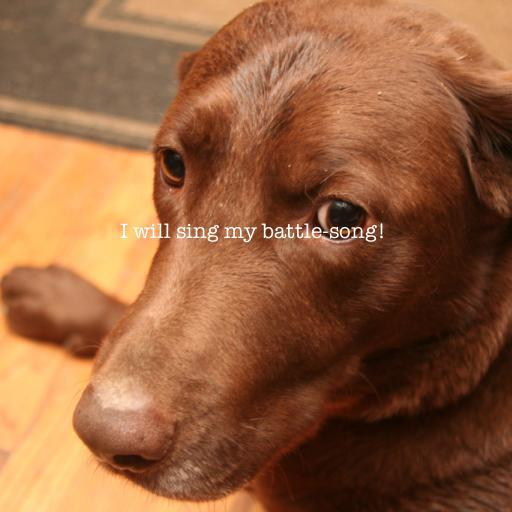American Typewriter: (120, 223, 386, 243)
